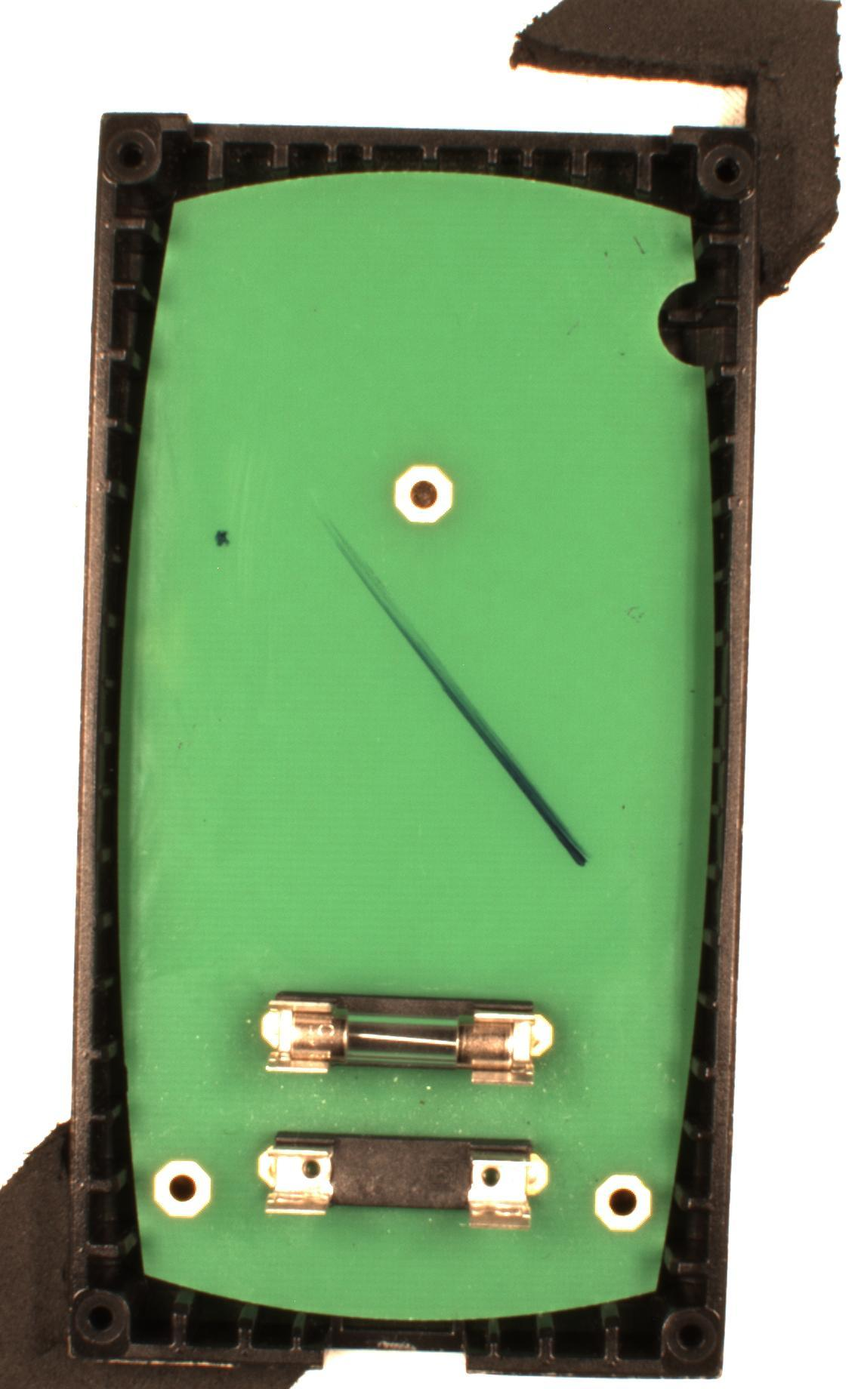Linijsko Ostecene: (321, 519, 591, 869)
Nepostojanje osiguraca: (255, 1128, 552, 1232)
Tockasto Ostecenje: (210, 524, 234, 550)
